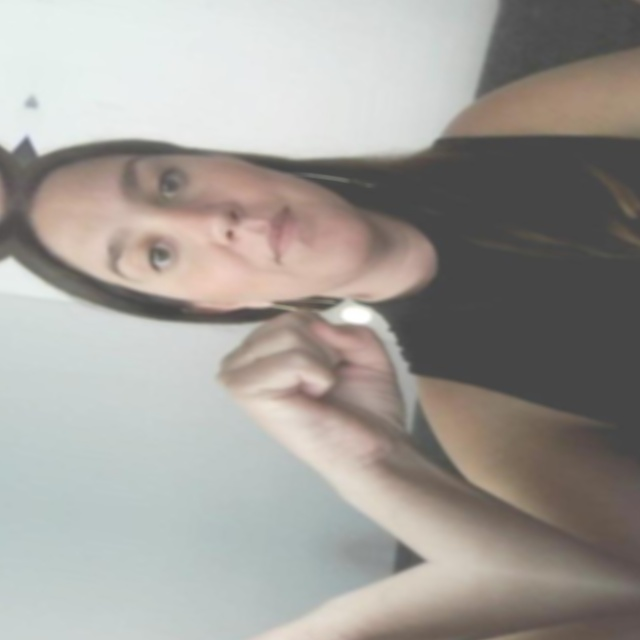Rock: (146, 596, 392, 640)
